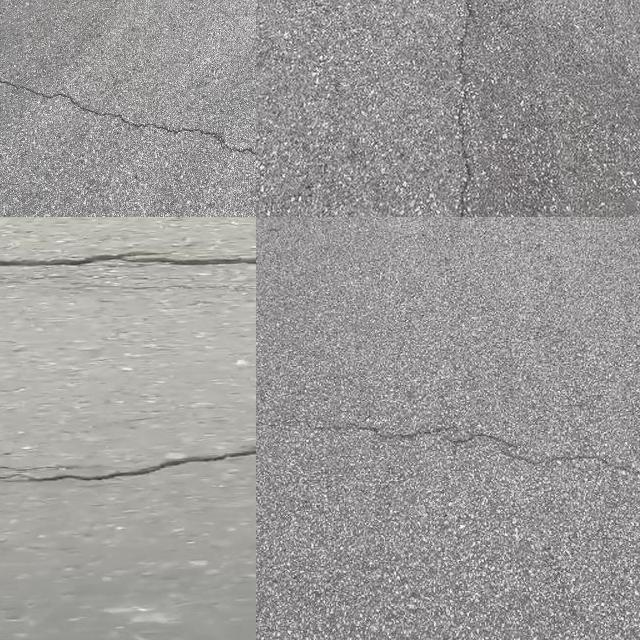Melintang: (256, 408, 640, 505), (0, 68, 256, 164), (0, 436, 256, 494), (0, 241, 256, 280)
Memanjang: (440, 0, 493, 217)
